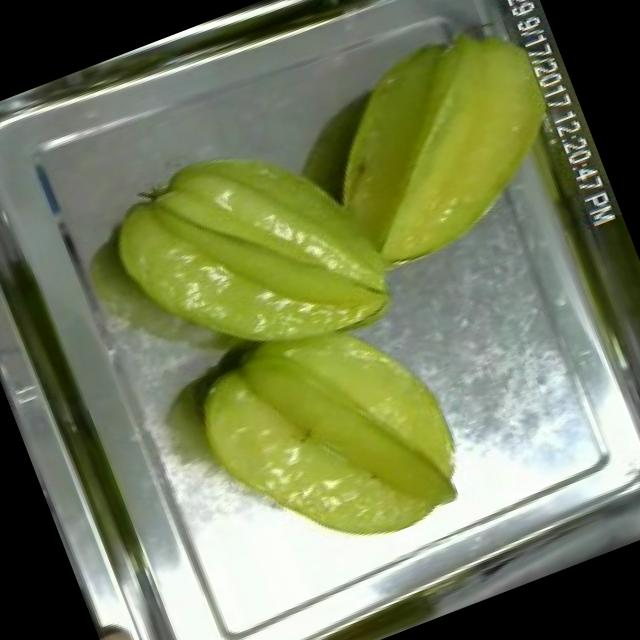fruit: (167, 276, 488, 601), (80, 98, 412, 406), (284, 0, 594, 292)
